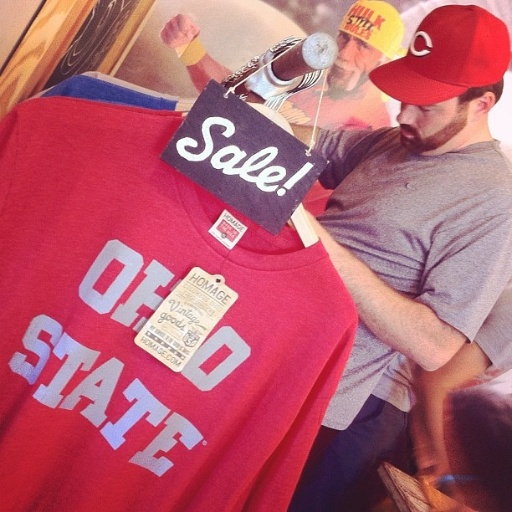hand: (152, 6, 227, 78)
